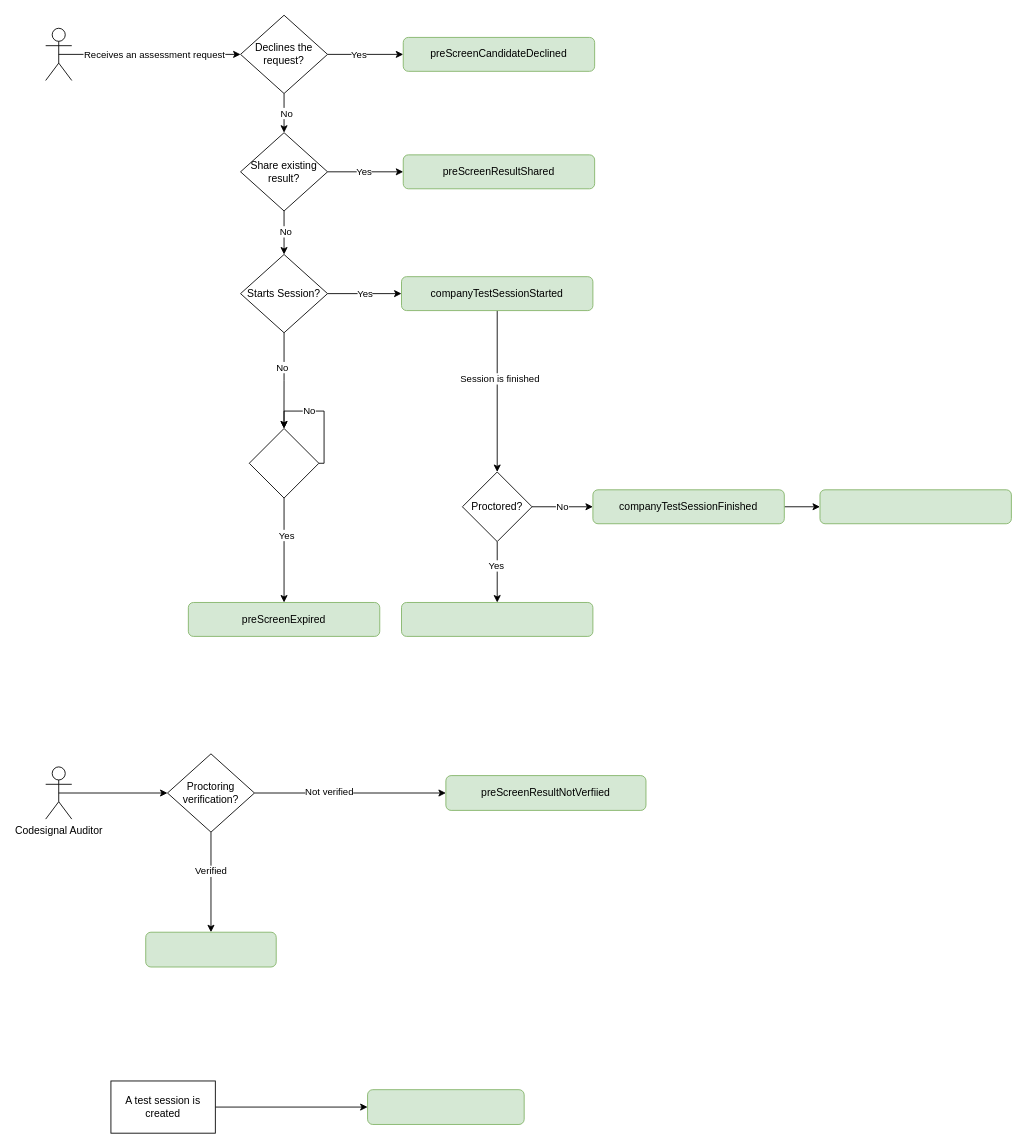
This 1027x1148 diagram has some shape labels left out. Here are the shapes that lost their labels. From the top down, the centre of each, then its label:
At point 58,53: "Candidate".
At point 283,463: "Expired?".
At point 915,506: "preScreenIntegrityReviewUpdated".
At point 497,619: "preScreenResultVerificationPending".
At point 210,949: "preScreenResultVerified".
At point 445,1106: "companyTestSessionCreated".
